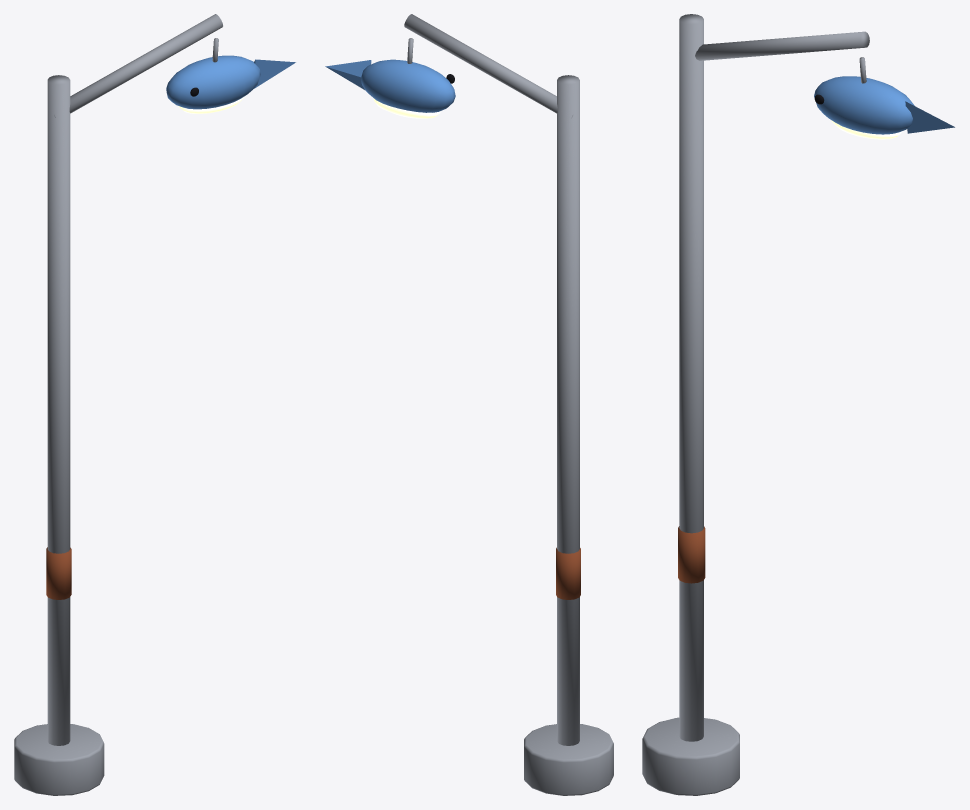
The model's file is zc_street_lamp.mobile-high.glb.
3 renders of one model, left to right at view 1: azimuth 30°, elevation 25°; view 2: azimuth 150°, elevation 25°; view 3: azimuth 330°, elevation 25°, orthographic. The views are drawn at different scales.
Parts seen in each view (by area): view 1: lamp_pole, lamp_head; view 2: lamp_pole, lamp_head; view 3: lamp_pole, lamp_head.
Boxes of the visible parts, x1=… form: lamp_pole: x1=14, y1=14, x2=222, y2=795; lamp_head: x1=166, y1=38, x2=295, y2=113; lamp_pole: x1=404, y1=14, x2=613, y2=795; lamp_head: x1=325, y1=38, x2=455, y2=118; lamp_pole: x1=642, y1=14, x2=869, y2=795; lamp_head: x1=814, y1=57, x2=954, y2=139.
Size of the model in its own units: 1.28 by 3.17 by 0.3561.
2 materials, 1 textured.
